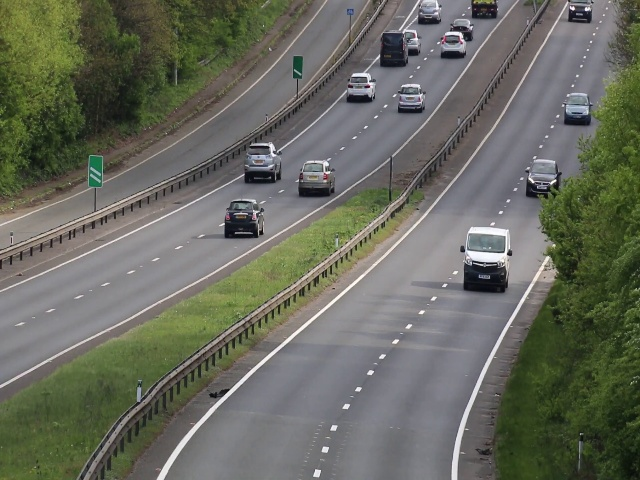car: (463, 228, 511, 292), (242, 142, 283, 181), (225, 199, 266, 238), (298, 160, 336, 195), (527, 158, 560, 198), (377, 29, 410, 67), (395, 77, 426, 112), (564, 92, 591, 126), (348, 72, 375, 102), (440, 30, 467, 56), (566, 1, 593, 22), (416, 1, 441, 21), (450, 18, 474, 34), (406, 30, 421, 54)
